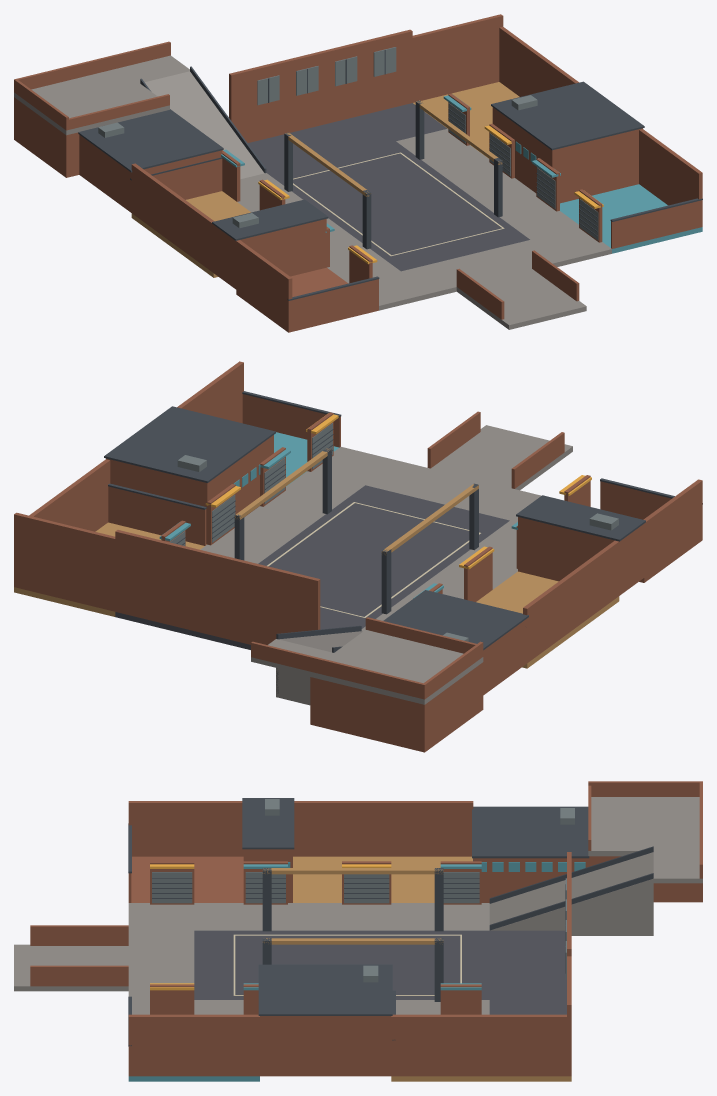
Rendered from hiphop-empty.glb.
The picture shows the model from 3 angles, top to bottom: view 1: azimuth 30°, elevation 25°; view 2: azimuth 150°, elevation 25°; view 3: azimuth 270°, elevation 25°; orthographic projection. The views are drawn at different scales.
Visible parts, largest first — view 1: floor/hall, trim/roof coping, wall/rear elevation, wall/west exterior, floor/forecourt, wall/east exterior, wall/east row, floor/east-alley, wall/battle back, floor/backstreet, wall/warehouse annex, floor/roof (+28 smaller); view 2: floor/hall, wall/rear elevation, trim/roof coping, wall/west exterior, wall/warehouse, wall/battle back, floor/forecourt, wall/east exterior, floor/east-alley, floor/roof, wall/east row, floor/entry (+26 smaller); view 3: wall/east exterior, wall/west exterior, trim/roof coping, floor/hall, floor/ramp, floor/west-alley, floor/backstreet, floor/roof, floor/forecourt, wall/shopfront, floor/street, trim/shutter (+22 smaller).
Boxes of the visible parts, left/top/right/bottom form: floor/hall: left=267, top=141, right=529, bottom=271; trim/roof coping: left=78, top=81, right=644, bottom=240; wall/rear elevation: left=229, top=29, right=412, bottom=142; wall/west exterior: left=131, top=163, right=292, bottom=327; floor/forecourt: left=379, top=228, right=611, bottom=310; wall/east exterior: left=499, top=27, right=702, bottom=227; wall/east row: left=492, top=107, right=642, bottom=203; floor/east-alley: left=396, top=128, right=578, bottom=239; wall/battle back: left=412, top=14, right=503, bottom=102; floor/backstreet: left=248, top=103, right=447, bottom=172; wall/warehouse annex: left=79, top=135, right=222, bottom=211; floor/roof: left=14, top=68, right=169, bottom=135; floor/hall: left=258, top=485, right=509, bottom=628; wall/rear elevation: left=115, top=530, right=320, bottom=644; trim/roof coping: left=104, top=406, right=645, bottom=650; wall/west exterior: left=523, top=479, right=702, bottom=662; wall/warehouse: left=310, top=662, right=483, bottom=752; wall/battle back: left=14, top=512, right=115, bottom=611; floor/forecourt: left=311, top=447, right=541, bottom=521; wall/east exterior: left=14, top=361, right=243, bottom=587; floor/east-alley: left=200, top=471, right=364, bottom=563; floor/roof: left=309, top=630, right=483, bottom=704; wall/east row: left=106, top=435, right=273, bottom=544; floor/entry: left=431, top=425, right=572, bottom=490; wall/east exterior: left=128, top=1014, right=571, bottom=1076; wall/west exterior: left=128, top=801, right=473, bottom=856; trim/roof coping: left=242, top=798, right=589, bottom=1015; floor/hall: left=194, top=930, right=489, bottom=999; floor/ramp: left=489, top=852, right=653, bottom=935; floor/west-alley: left=194, top=903, right=489, bottom=930; floor/backstreet: left=489, top=930, right=566, bottom=1014; floor/roof: left=588, top=797, right=699, bottom=856; floor/forecourt: left=128, top=903, right=194, bottom=1014; wall/shopfront: left=150, top=861, right=481, bottom=1014; floor/street: left=293, top=856, right=472, bottom=902; trim/shutter: left=152, top=872, right=479, bottom=903.
Bounding box in the file's own units: 33.08 × 5.65 × 42.
